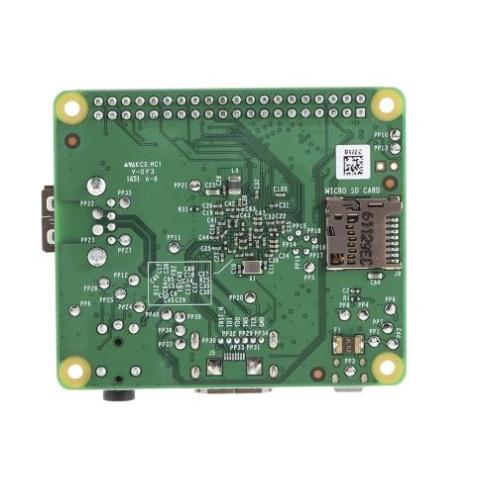Raspberry-Pi-1-Model-A-: (38, 80, 418, 404)
